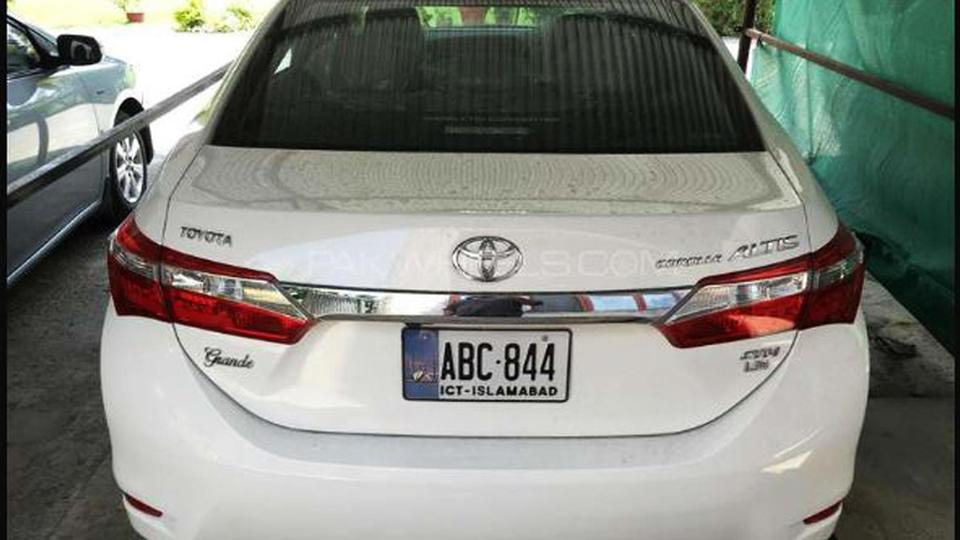NumberPlate: (406, 324, 571, 404)
